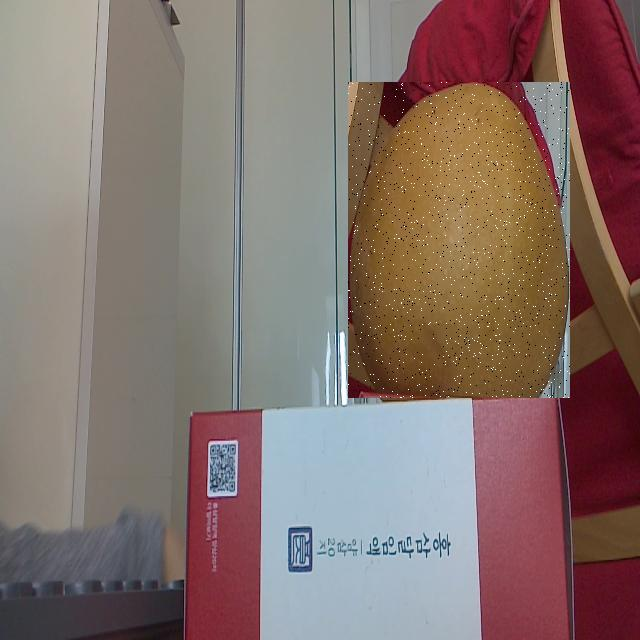pear: (348, 82, 570, 398)
